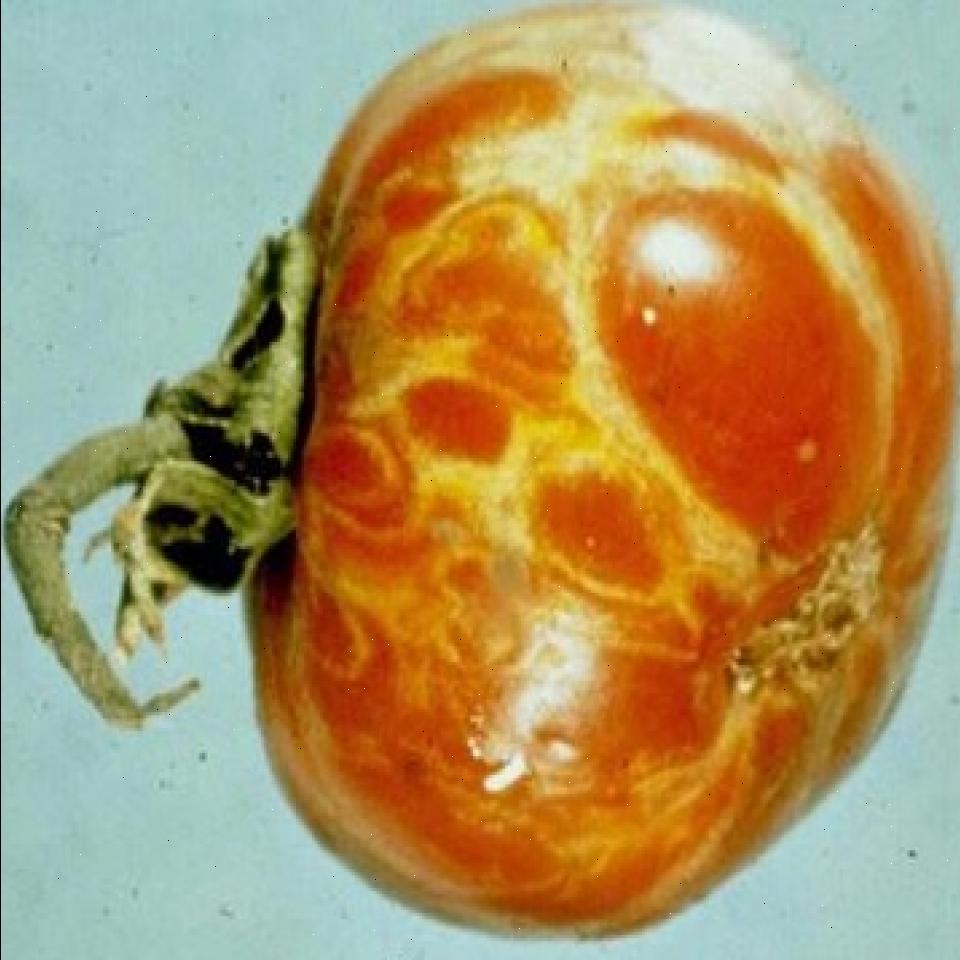Spotted wilt Virus: (247, 0, 960, 938)
